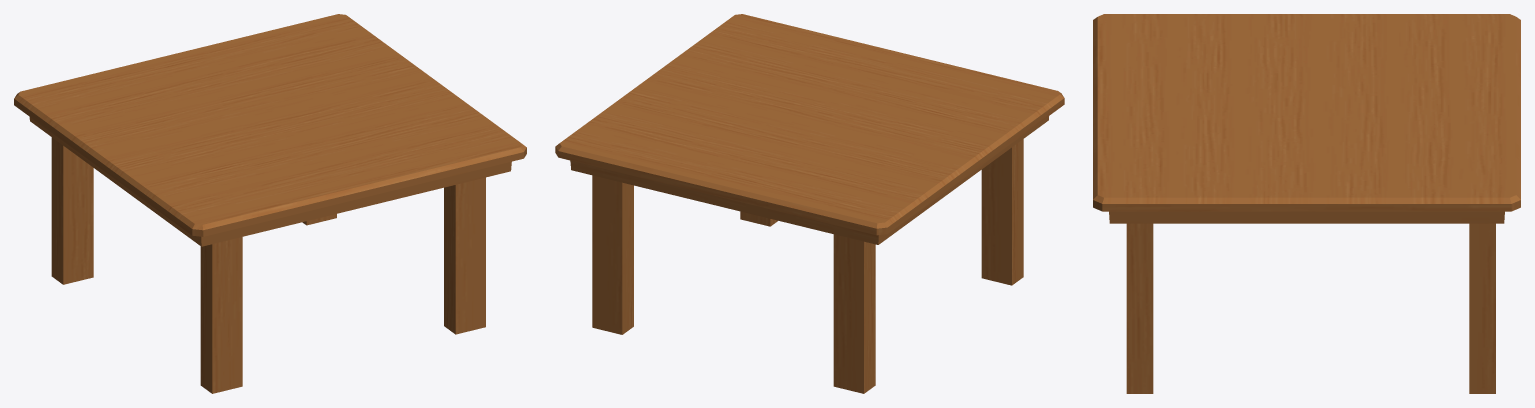
The model's file is Square Table_H.FBX.
3 renders of one model, left to right at view 1: azimuth 30°, elevation 25°; view 2: azimuth 150°, elevation 25°; view 3: azimuth 270°, elevation 25°, orthographic. The views are drawn at different scales.
Parts seen in each view (by area): view 1: Square Table; view 2: Square Table; view 3: Square Table.
Part boxes in pixels (bbox=[...]): Square Table: bbox=[14, 14, 526, 393]; Square Table: bbox=[555, 14, 1064, 393]; Square Table: bbox=[1093, 14, 1520, 393].
Bounding box in the file's own units: 264 × 138 × 254.
